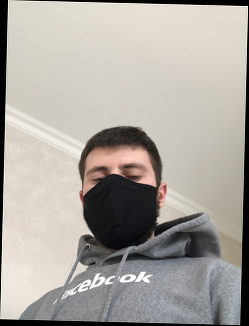with_mask: (83, 158, 158, 249)
